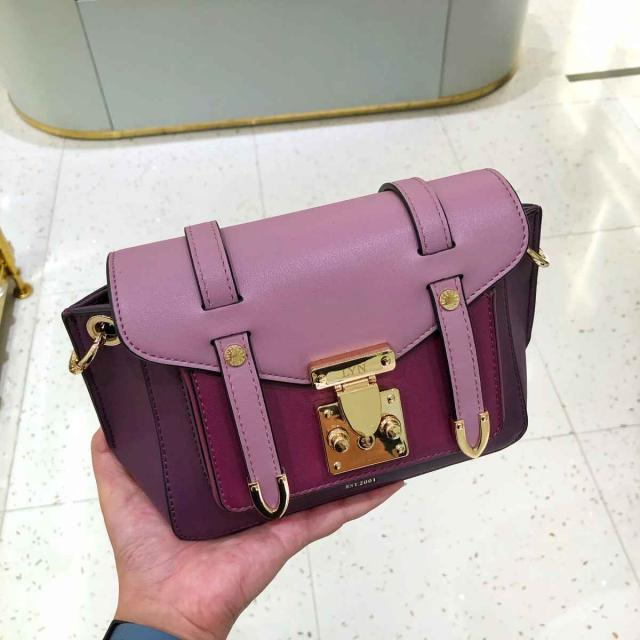handbag: (54, 165, 549, 545)
